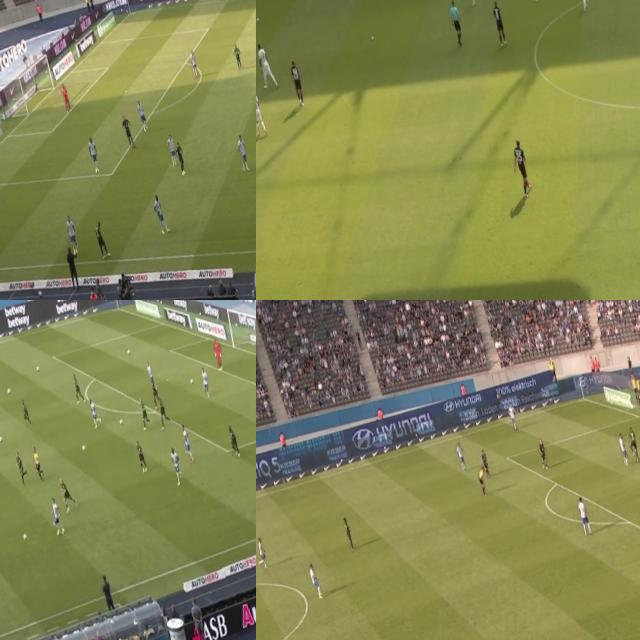ball: (125, 344, 131, 354), (118, 418, 124, 425), (81, 443, 86, 451), (22, 533, 27, 540), (6, 386, 10, 394), (370, 32, 374, 39), (36, 364, 40, 370), (190, 377, 193, 383), (256, 14, 258, 20), (0, 434, 2, 440)
player: (510, 135, 532, 199), (150, 189, 172, 237), (256, 42, 278, 90), (286, 58, 306, 104), (92, 216, 112, 256), (58, 475, 78, 515), (48, 496, 66, 536), (306, 560, 324, 600), (168, 446, 185, 488), (64, 212, 80, 256), (492, 1, 508, 44), (120, 112, 138, 150), (576, 492, 592, 534), (173, 139, 190, 178), (234, 134, 250, 171), (342, 514, 358, 550), (616, 428, 631, 466), (134, 438, 150, 473), (135, 95, 150, 132), (256, 532, 270, 571), (180, 424, 194, 462), (256, 88, 267, 135), (86, 136, 100, 172), (13, 451, 29, 482), (86, 397, 102, 428), (58, 80, 72, 115), (164, 134, 178, 168), (71, 372, 85, 405), (227, 423, 240, 458), (627, 425, 640, 460), (536, 434, 549, 469), (138, 398, 152, 428), (19, 396, 32, 425), (156, 395, 168, 426), (232, 41, 244, 71), (212, 338, 224, 368), (479, 446, 491, 476), (454, 442, 466, 471), (200, 368, 210, 398), (188, 47, 198, 76), (150, 379, 160, 404), (145, 362, 154, 387), (508, 404, 516, 430), (637, 423, 640, 459)
